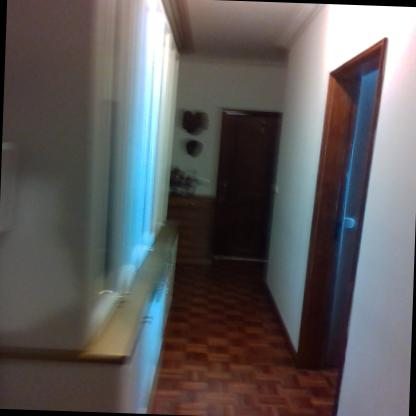closed: (205, 103, 289, 270)
